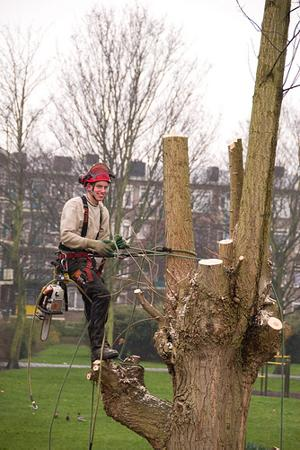person: (55, 160, 121, 382)
